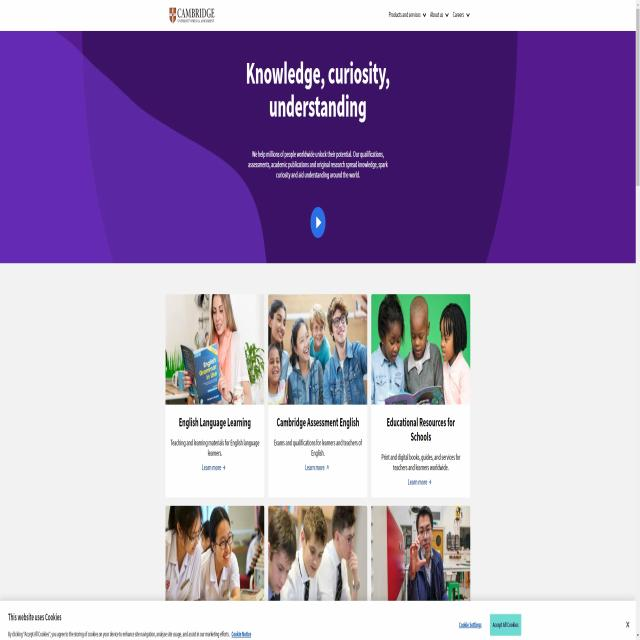menu-bar: (384, 2, 472, 24)
